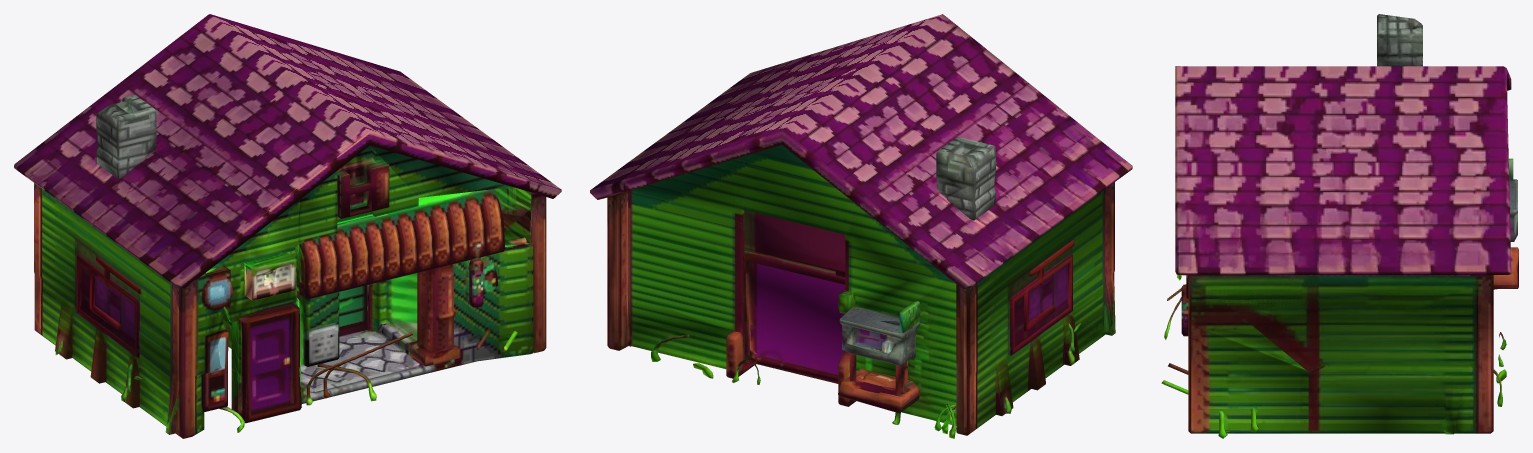
Rendered from university.glb.
3 renders of one model, left to right at view 1: azimuth 30°, elevation 25°; view 2: azimuth 150°, elevation 25°; view 3: azimuth 270°, elevation 25°, orthographic. The views are drawn at different scales.
Bounding box in the file's own units: 1.91 × 1.28 × 1.49.
Materials: 1 (1 with a texture image).
